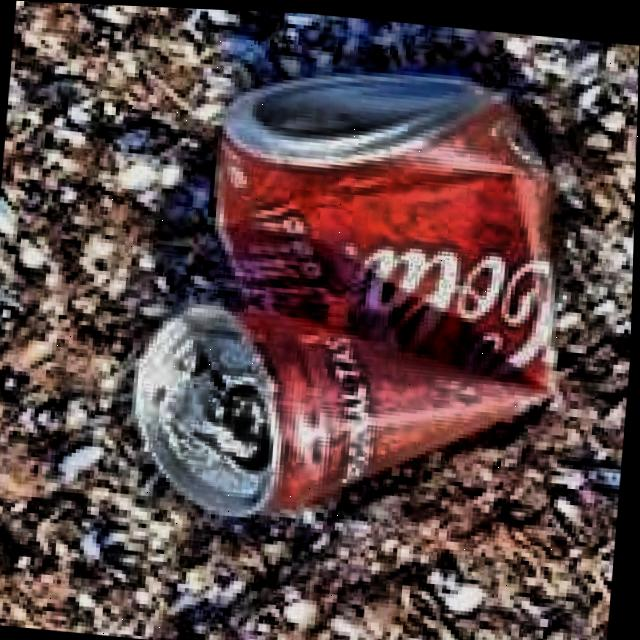metal: (132, 65, 566, 523)
